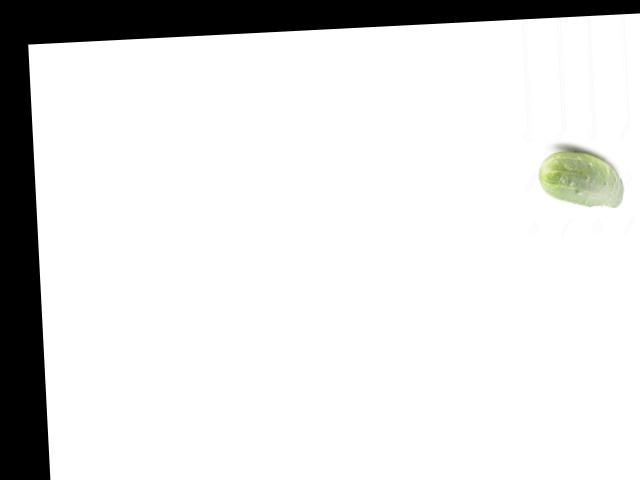cucumber: (536, 147, 624, 211)
